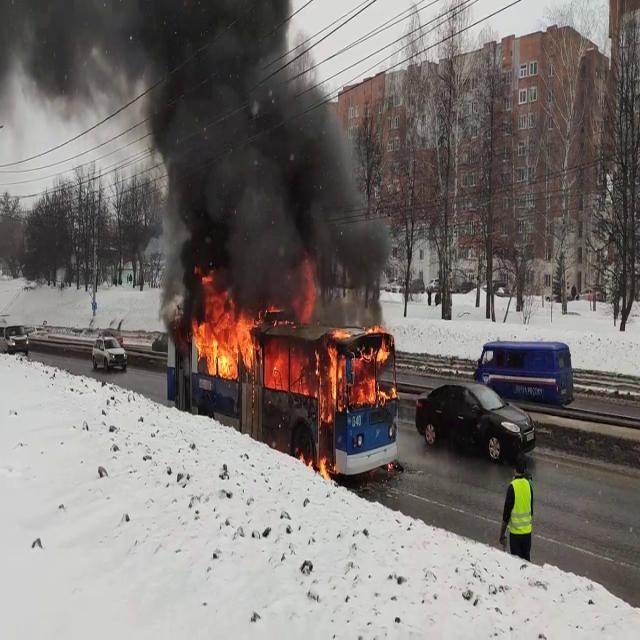Fire: (317, 310, 398, 412), (188, 292, 260, 379), (257, 342, 312, 400)
Smoke: (117, 0, 393, 314)
